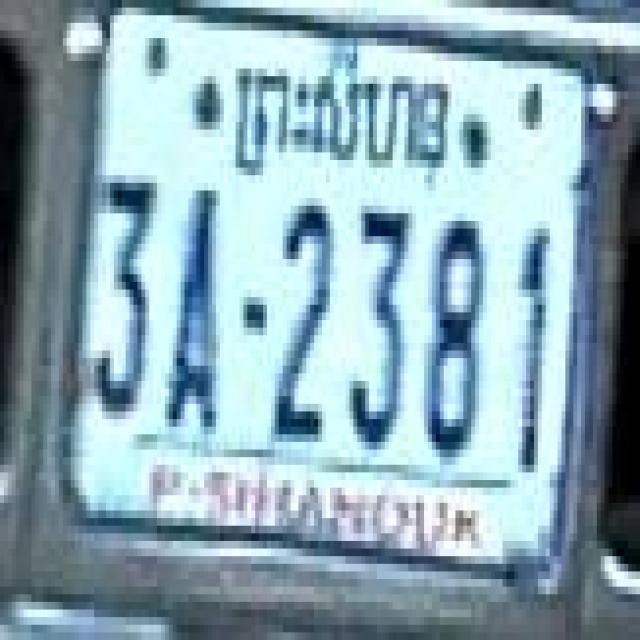Preah_Sihanouk: (236, 46, 451, 194)
